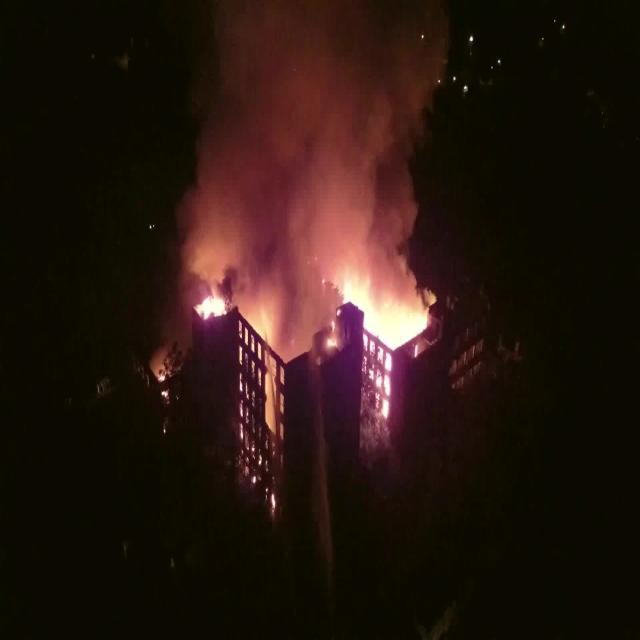Fire: (324, 276, 436, 422), (250, 310, 284, 514), (191, 277, 232, 337), (153, 348, 179, 431)
Smoke: (168, 7, 448, 302)
